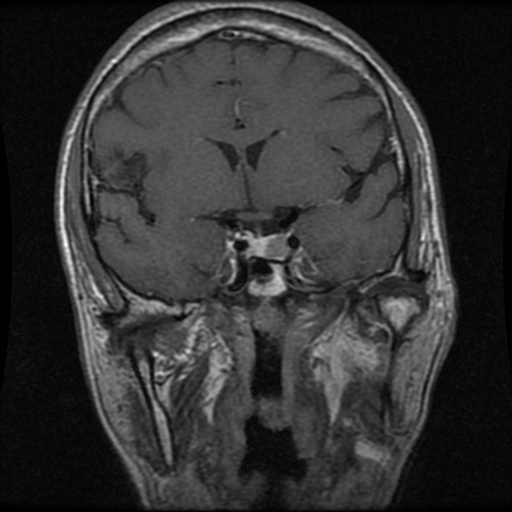pituitary: (252, 233, 292, 258)
